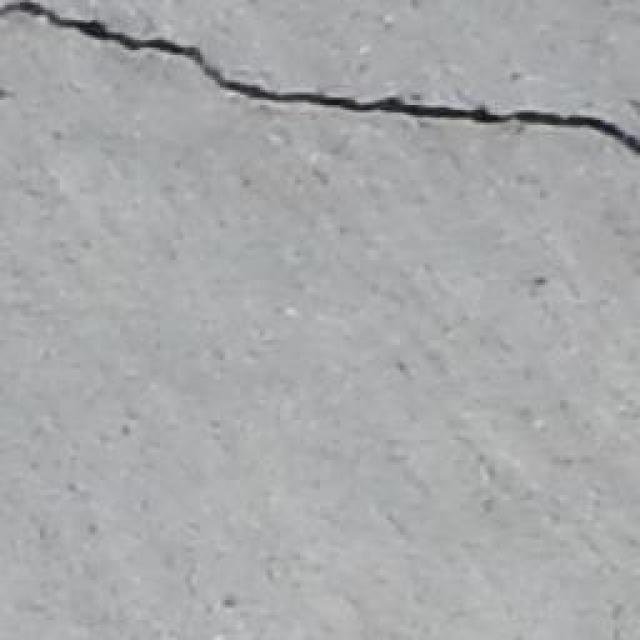concrete-crack: (0, 0, 640, 168)
